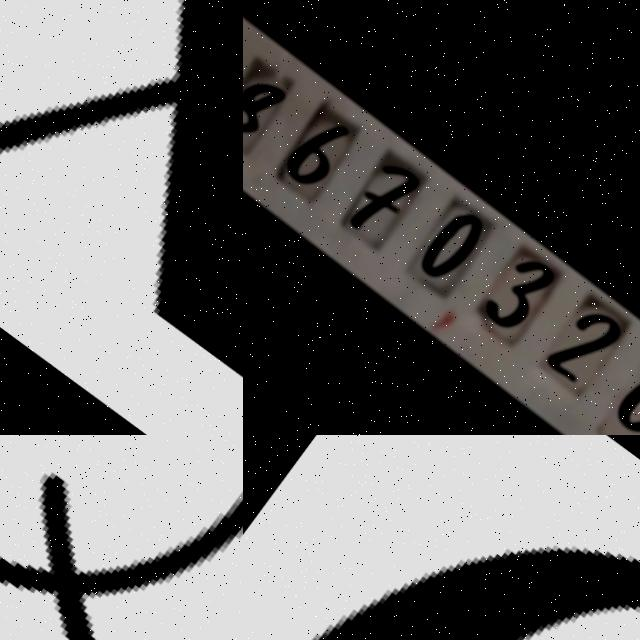0: (403, 195, 498, 297)
2: (535, 293, 631, 395)
3: (468, 242, 564, 344)
6: (243, 435, 640, 640), (273, 103, 362, 200), (600, 342, 640, 435)
7: (333, 148, 431, 253)
8: (243, 55, 295, 150)
Q: (0, 435, 243, 640)
X: (0, 0, 243, 435)
